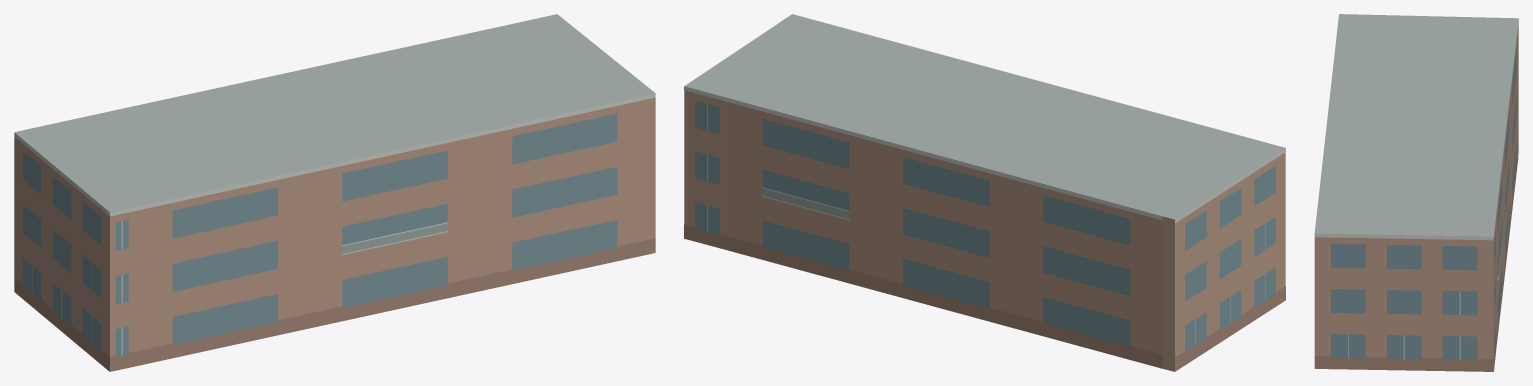
File: survey-upis-32899085.glb
The picture shows the model from 3 angles, left to right: view 1: azimuth 30°, elevation 25°; view 2: azimuth 150°, elevation 25°; view 3: azimuth 270°, elevation 25°; orthographic projection. The views are drawn at different scales.
Visible parts, largest first — view 1: survey-upis-32899085.tmp; view 2: survey-upis-32899085.tmp; view 3: survey-upis-32899085.tmp.
Boxes of the visible parts, x1,y1,x2,y2 form: survey-upis-32899085.tmp: [14, 14, 655, 371]; survey-upis-32899085.tmp: [684, 14, 1285, 371]; survey-upis-32899085.tmp: [1314, 14, 1518, 371].
Bounding box in the file's own units: 32.33 × 9.15 × 12.51.
